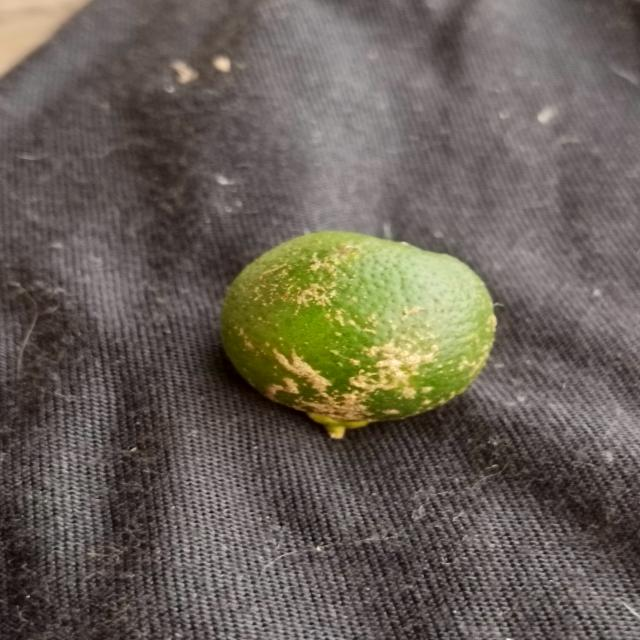scab: (212, 228, 504, 428)
